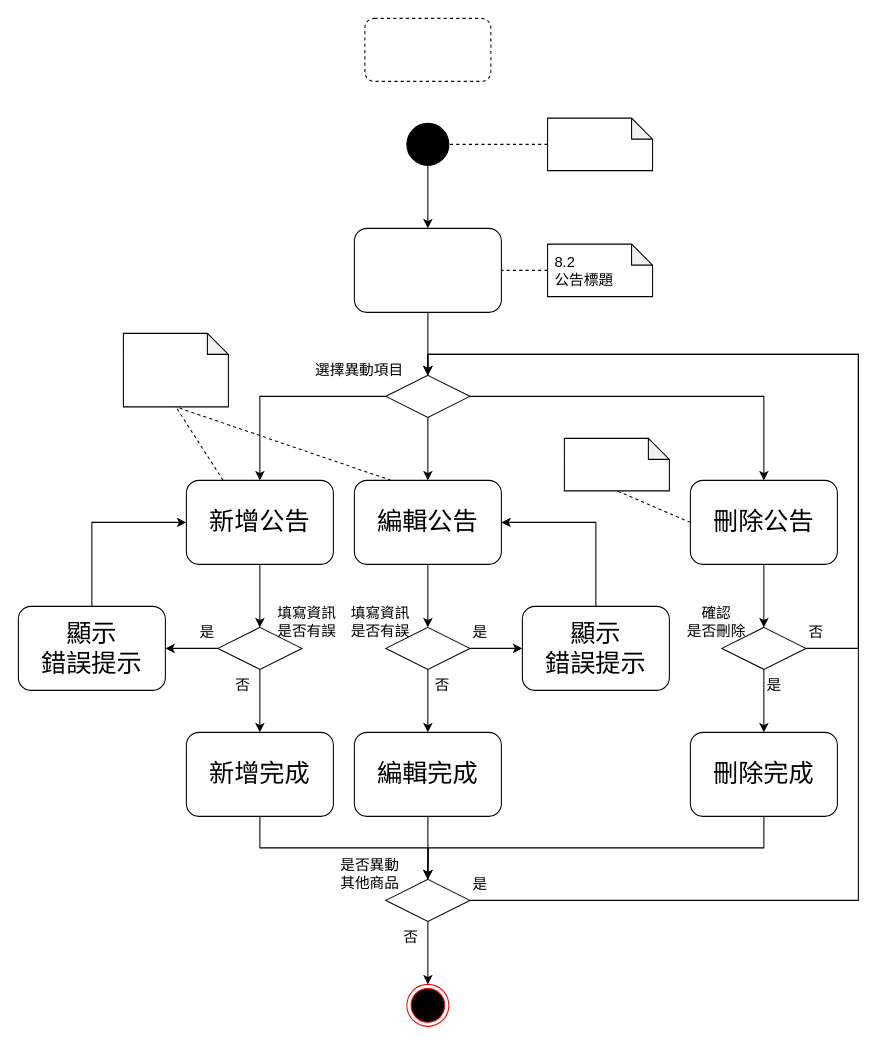
Some shapes in this 885 by 1045 pixel diagram are drawn without their labels. Each missing label, with the centre of its shape:
"8.1 需要先登入" belongs at [600,144].
"8.3 公告標題 公告內文" belongs at [175,369].
"8.4 公告標題" belongs at [616,464].
"公告管理" belongs at [427,49].
"顯示 所有公告" belongs at [427,269].
